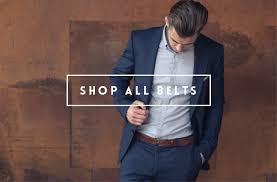F_M_suit jacket: (112, 25, 228, 172)
F_belt: (130, 126, 209, 155)
